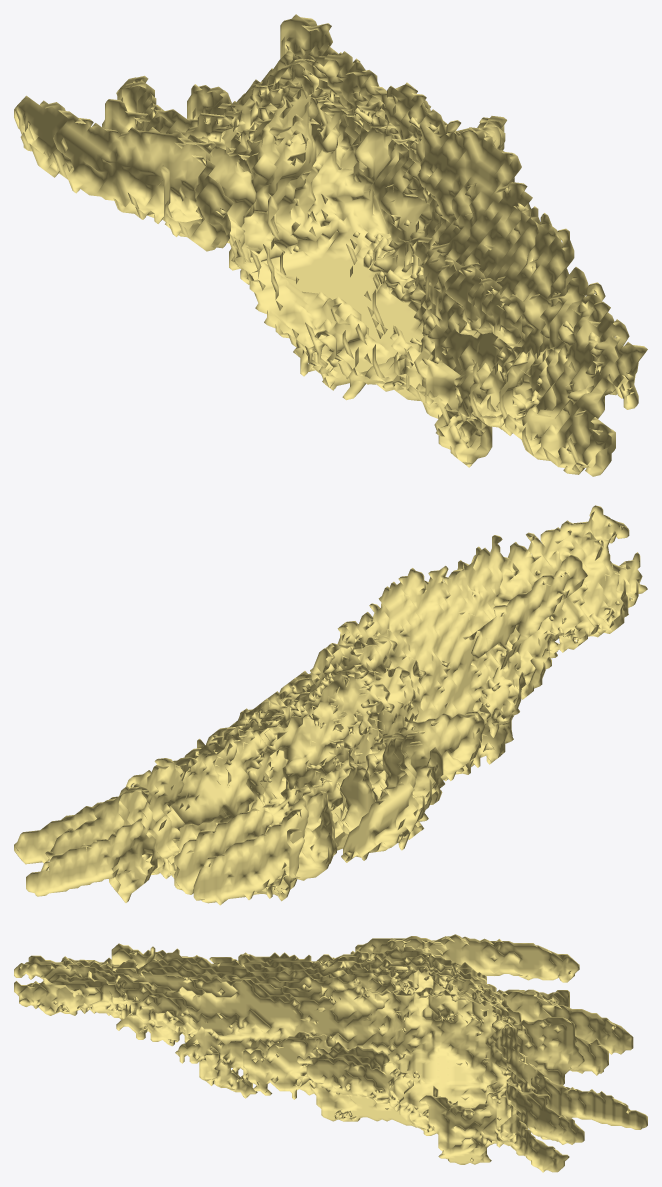
The model's file is osteocyte_27.glb.
The picture shows the model from 3 angles, top to bottom: view 1: azimuth 30°, elevation 25°; view 2: azimuth 150°, elevation 25°; view 3: azimuth 270°, elevation 25°; orthographic projection. The views are drawn at different scales.
Parts seen in each view (by area): view 1: osteocyte_27; view 2: osteocyte_27; view 3: osteocyte_27.
Part boxes in pixels (<box>): osteocyte_27: <box>14,14,647,476</box>; osteocyte_27: <box>14,505,647,905</box>; osteocyte_27: <box>14,934,647,1172</box>.
Size of the model in its own units: 31.78 by 17.33 by 62.59.
